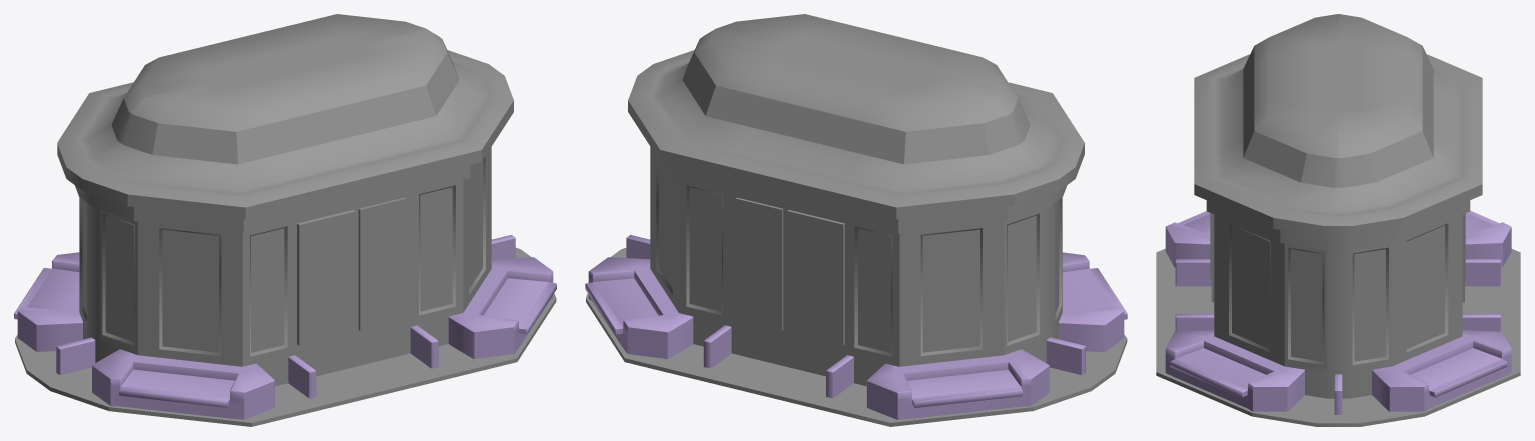
Rendered from Ilot02_low.FBX.
3 renders of one model, left to right at view 1: azimuth 30°, elevation 25°; view 2: azimuth 150°, elevation 25°; view 3: azimuth 270°, elevation 25°, orthographic. The views are drawn at different scales.
Visible parts, largest first — view 1: Base_low, Banc003_low, Aeration02_low, Banc001_low, PlaqueAeration02_low, Banc002_low, MuretBack_low, MuretLeft002_low, MuretLeft001_low, MuretFront_low; view 2: Base_low, Banc002_low, Banc004_low, Aeration01_low, PlaqueAeration01_low, Banc003_low, MuretBack_low, MuretRight001_low, MuretRight002_low, MuretFront_low; view 3: Base_low, Banc001_low, Banc004_low, Banc002_low, Banc003_low, MuretLeft002_low, MuretRight002_low, MuretLeft001_low, MuretRight001_low, MuretFront_low, PlaqueAeration02_low.
Boxes of the visible parts, x1,y1,x2,y2 form: Base_low: (15, 14, 556, 426); Banc003_low: (92, 349, 274, 419); Aeration02_low: (297, 210, 355, 345); Banc001_low: (448, 257, 556, 358); PlaqueAeration02_low: (358, 197, 406, 330); Banc002_low: (14, 252, 82, 351); MuretBack_low: (56, 337, 95, 374); MuretLeft002_low: (288, 355, 316, 398); MuretLeft001_low: (410, 325, 438, 368); MuretFront_low: (491, 235, 515, 258); Base_low: (586, 14, 1127, 426); Banc002_low: (866, 349, 1049, 419); Banc004_low: (585, 257, 693, 358); Aeration01_low: (787, 210, 844, 345); PlaqueAeration01_low: (735, 197, 783, 330); Banc003_low: (1059, 252, 1127, 351); MuretBack_low: (1046, 337, 1085, 374); MuretRight001_low: (703, 325, 731, 368); MuretRight002_low: (826, 355, 853, 398); MuretFront_low: (626, 235, 650, 259); Base_low: (1156, 14, 1520, 426); Banc001_low: (1165, 330, 1304, 411); Banc004_low: (1372, 330, 1511, 411); Banc002_low: (1465, 211, 1511, 267); Banc003_low: (1165, 211, 1210, 267); MuretLeft002_low: (1175, 259, 1211, 286); MuretRight002_low: (1465, 259, 1500, 286); MuretLeft001_low: (1175, 314, 1214, 331); MuretRight001_low: (1462, 314, 1500, 331); MuretFront_low: (1334, 374, 1342, 414); PlaqueAeration02_low: (1211, 213, 1214, 302).
Bounding box in the file's own units: 677 × 339 × 469.
